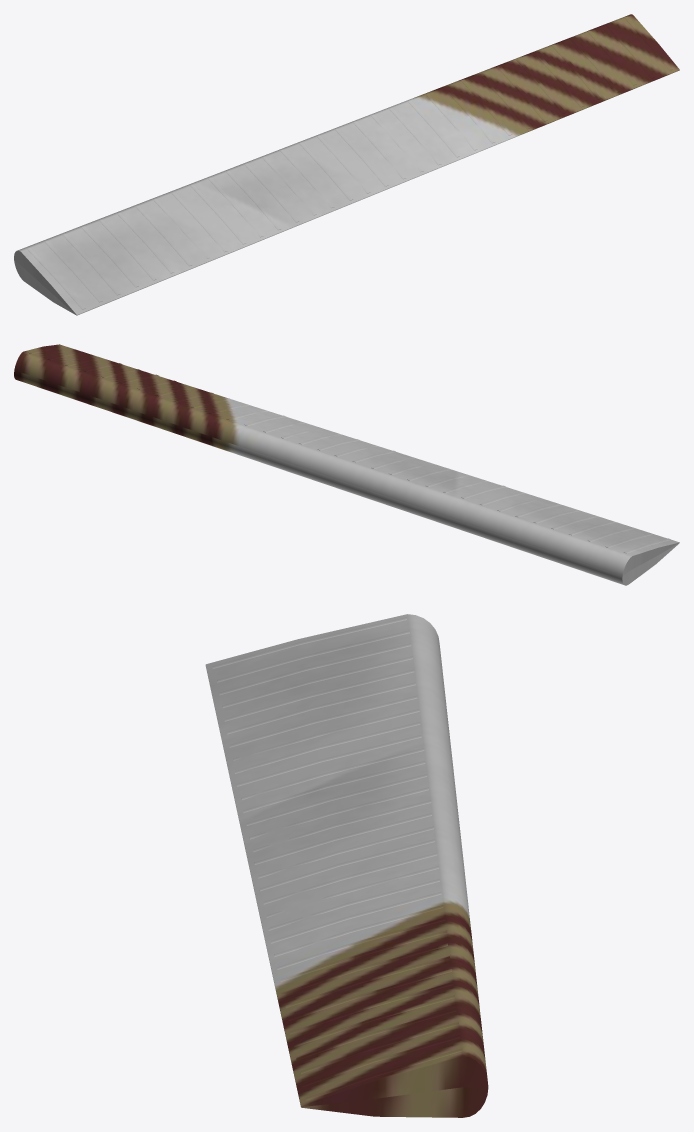
File: aileron_right.obj
The picture shows the model from 3 angles, top to bottom: view 1: azimuth 30°, elevation 25°; view 2: azimuth 150°, elevation 25°; view 3: azimuth 270°, elevation 25°; orthographic projection. The views are drawn at different scales.
Parts seen in each view (by area): view 1: aileronD_aileronD.mesh; view 2: aileronD_aileronD.mesh; view 3: aileronD_aileronD.mesh.
Part boxes in pixels (x1,y1,x2,y2): aileronD_aileronD.mesh: [14, 14, 679, 315]; aileronD_aileronD.mesh: [14, 344, 679, 585]; aileronD_aileronD.mesh: [205, 614, 488, 1117].
Bounding box in the file's own units: 2.26 × 0.3553 × 0.4615.
1 material, 1 textured.
